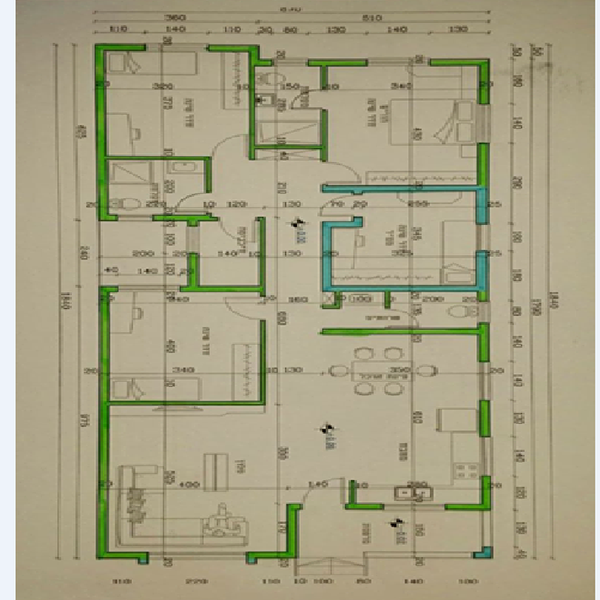door: (301, 474, 347, 516), (221, 293, 275, 324), (322, 155, 366, 189), (217, 217, 260, 247), (319, 194, 367, 218), (172, 191, 217, 215), (211, 133, 250, 159), (384, 308, 424, 328)
room: (97, 402, 297, 562), (342, 330, 492, 510), (322, 60, 488, 192), (98, 284, 267, 408), (97, 44, 255, 162), (320, 186, 492, 284), (249, 54, 328, 155), (249, 54, 329, 152), (96, 154, 214, 219), (186, 220, 267, 290)
wall: (94, 44, 108, 221), (99, 284, 106, 557), (325, 325, 479, 335), (105, 399, 265, 408), (323, 185, 476, 194), (248, 50, 257, 158), (327, 285, 479, 291), (477, 144, 488, 225), (180, 285, 264, 294), (475, 253, 490, 303), (323, 224, 334, 292), (247, 549, 296, 564), (259, 215, 268, 295), (260, 325, 269, 404), (285, 505, 298, 554), (107, 155, 210, 161), (188, 251, 205, 287), (207, 43, 258, 54), (153, 214, 218, 222), (478, 61, 490, 104), (253, 144, 325, 151), (478, 323, 490, 363), (101, 554, 149, 564), (346, 502, 385, 514), (310, 59, 368, 67), (431, 59, 489, 66), (480, 400, 491, 433), (321, 115, 329, 160), (326, 220, 361, 229), (205, 158, 215, 188), (449, 502, 479, 511), (321, 68, 331, 91), (484, 477, 490, 510)
window: (149, 552, 247, 561), (477, 106, 494, 141), (147, 43, 205, 53), (385, 504, 443, 514), (118, 285, 176, 295), (371, 58, 433, 67), (480, 363, 494, 394), (479, 442, 488, 469), (478, 229, 488, 252), (277, 61, 311, 67)
